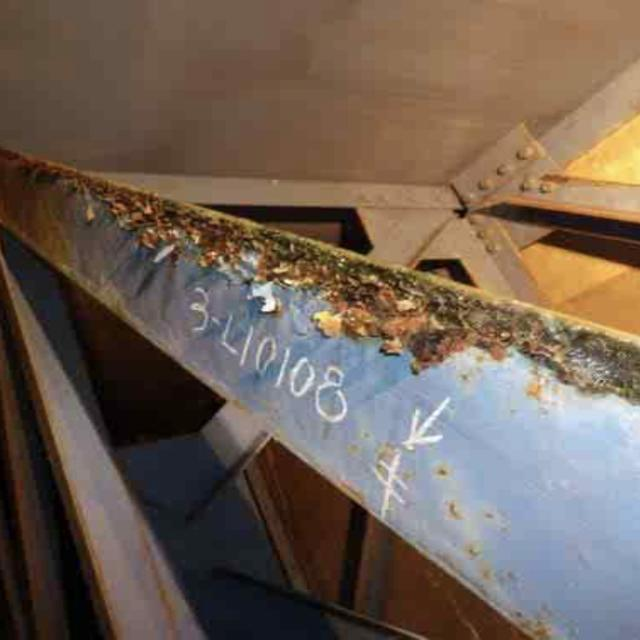corrosion: (24, 157, 590, 444)
